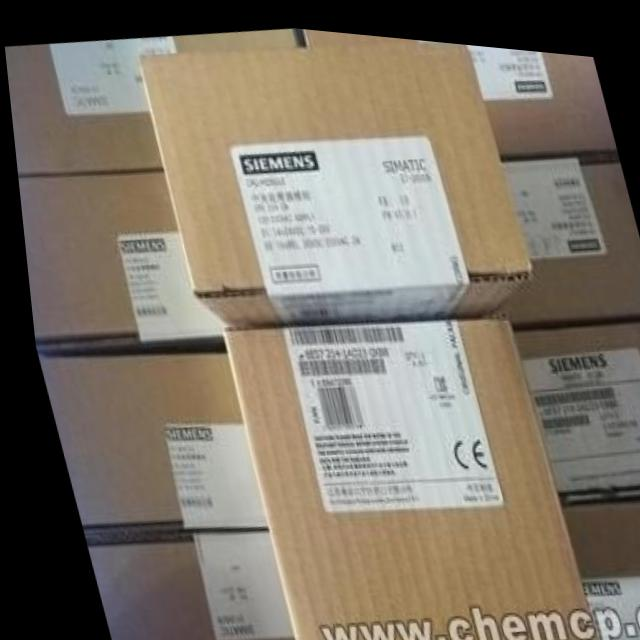box: (220, 304, 585, 640), (136, 31, 529, 332), (4, 22, 300, 176), (30, 347, 258, 537), (14, 166, 221, 354), (486, 141, 640, 321), (506, 304, 640, 491), (74, 528, 282, 640), (469, 36, 616, 151), (550, 485, 640, 640)
